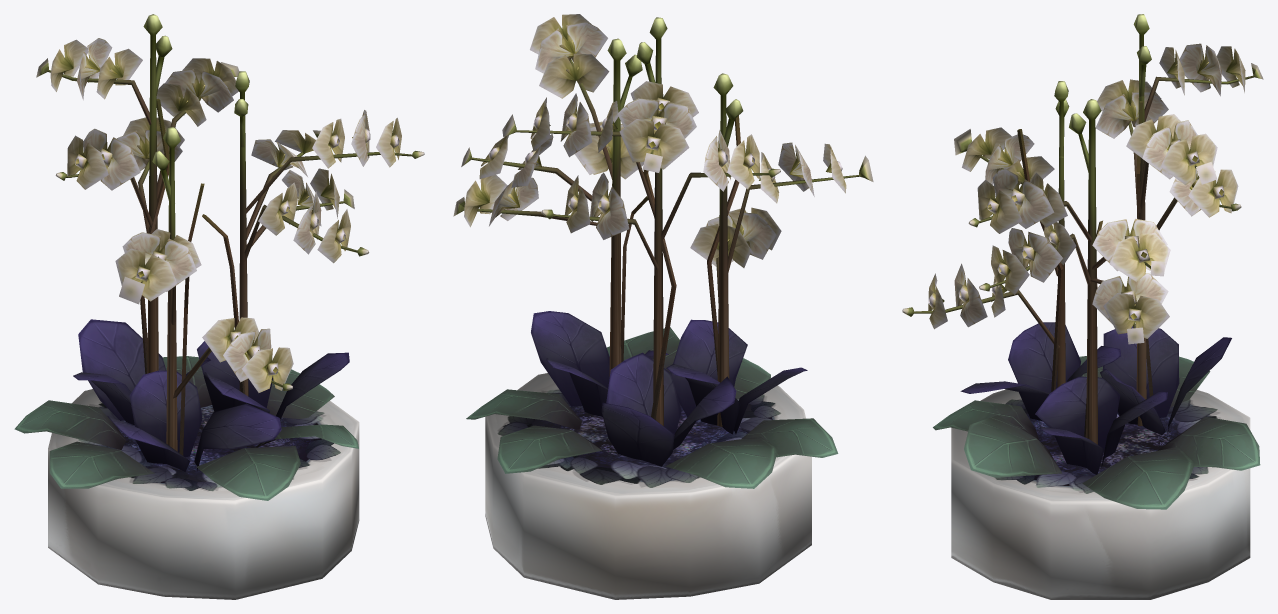
File: FlowerVase.fbx
3 renders of one model, left to right at view 1: azimuth 30°, elevation 25°; view 2: azimuth 150°, elevation 25°; view 3: azimuth 270°, elevation 25°, orthographic. The views are drawn at different scales.
Parts seen in each view (by area): view 1: FlowerVase; view 2: FlowerVase; view 3: FlowerVase.
Part boxes in pixels (box(x1,y1,x2,y2)): FlowerVase: box(14, 14, 424, 599); FlowerVase: box(453, 14, 873, 599); FlowerVase: box(902, 14, 1263, 599).
Bounding box in the file's own units: 6.59 × 9.85 × 6.37.
1 material, 1 textured.
